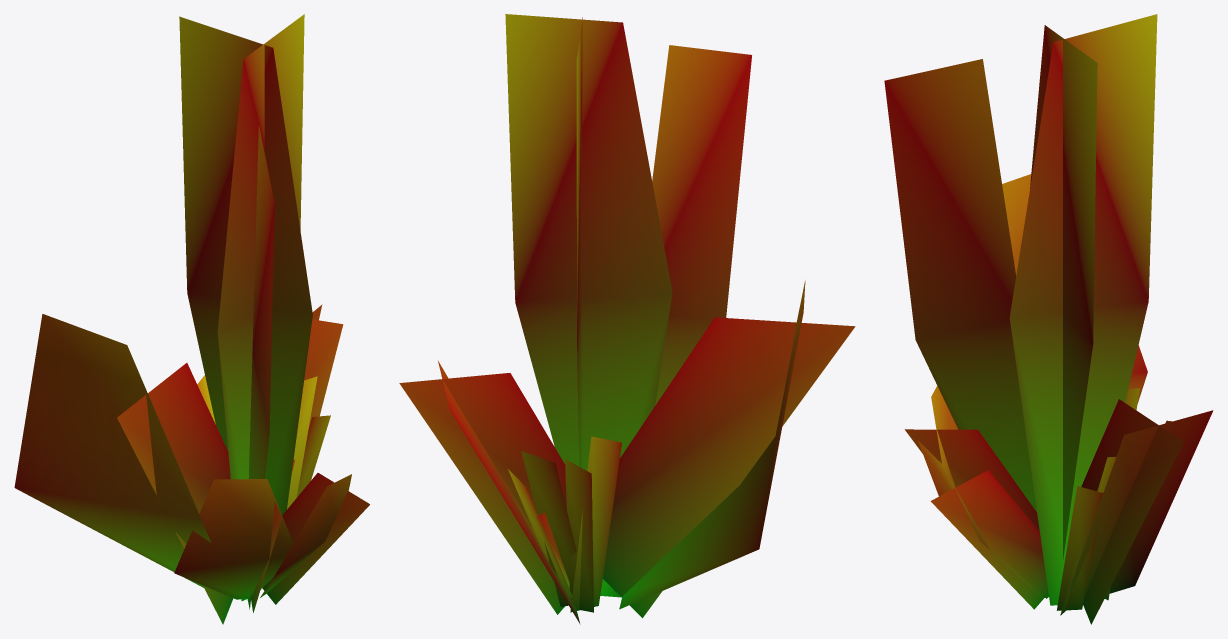
Rendered from Dead Broom Bush_LOD2_Var3_tlpjdhwia.fbx.
3 renders of one model, left to right at view 1: azimuth 30°, elevation 25°; view 2: azimuth 150°, elevation 25°; view 3: azimuth 270°, elevation 25°, orthographic. The views are drawn at different scales.
Parts seen in each view (by area): view 1: _f211_Var3_LOD2; view 2: _f211_Var3_LOD2; view 3: _f211_Var3_LOD2.
Part boxes in pixels (left/top/right/bottom): _f211_Var3_LOD2: left=14, top=14, right=369, bottom=624; _f211_Var3_LOD2: left=399, top=14, right=855, bottom=624; _f211_Var3_LOD2: left=884, top=14, right=1213, bottom=624.
Size of the model in its own units: 26.29 by 42.87 by 21.67.
